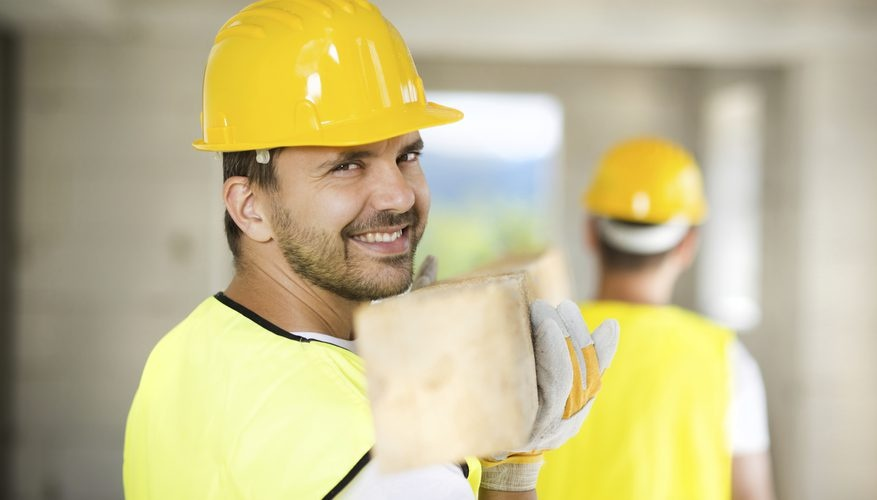yellow: (203, 2, 431, 304), (580, 136, 706, 287)
